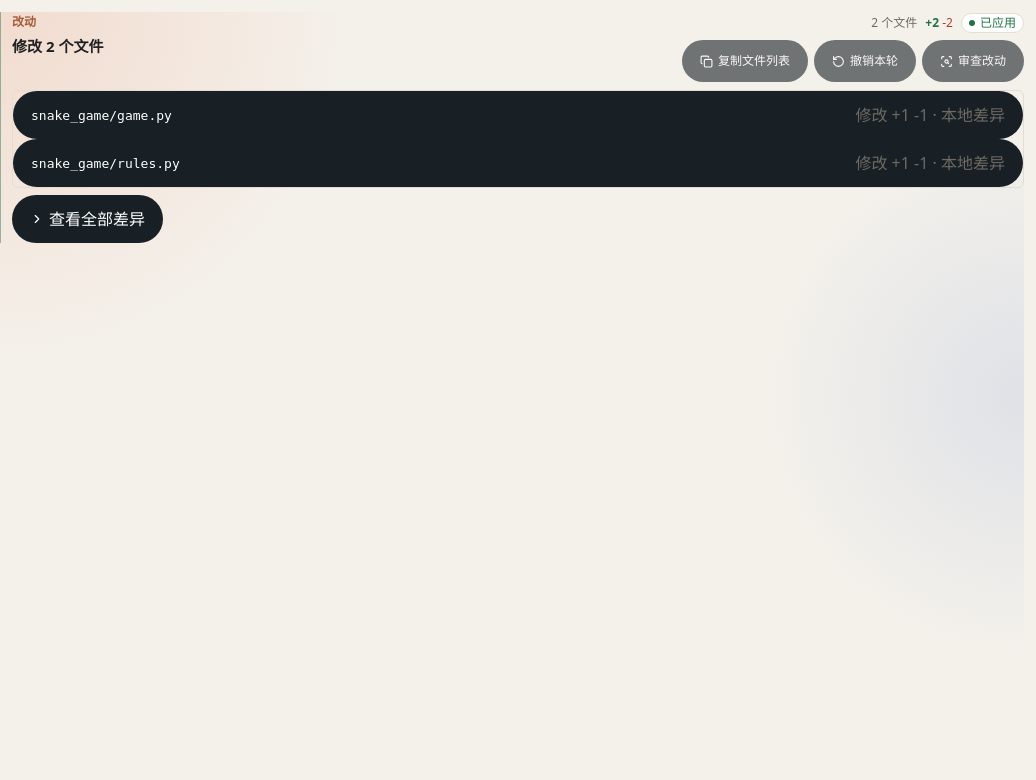
Test: CleanConversation › syncs diff tabs with the right file pane
The width and height of the screenshot is (1036, 780).
Click the button "查看全部差异". click: (88,219)
box: [12,195,163,243]
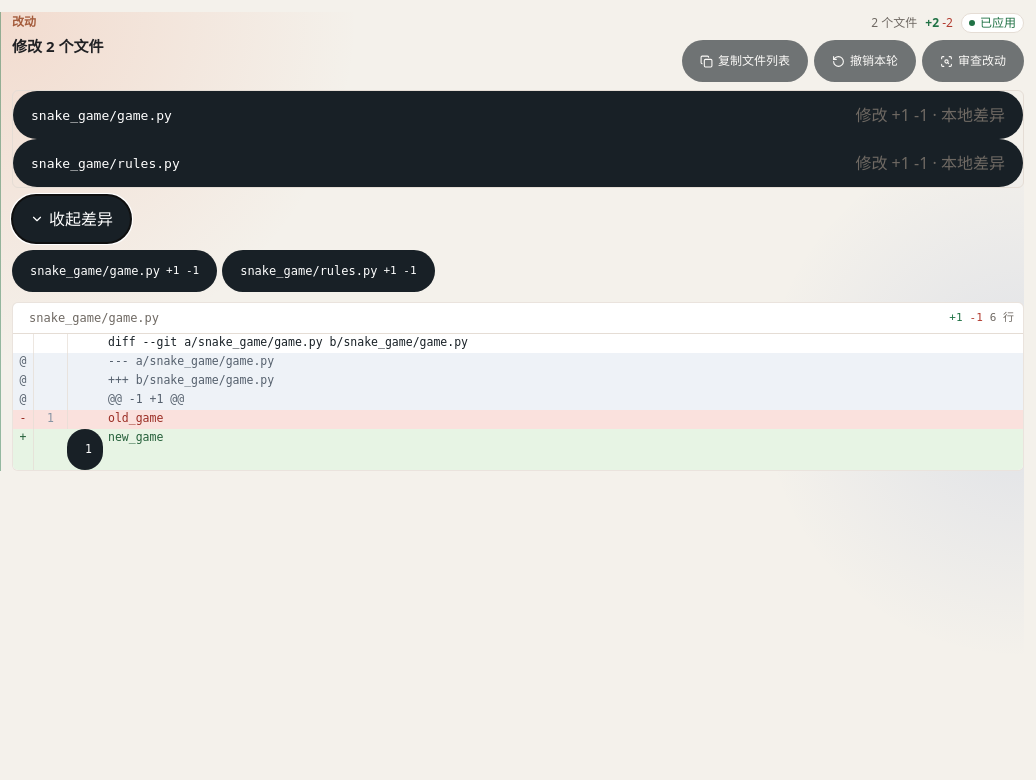
Click the button "snake_game/rules.py +1 -1". click: (328,271)
box: [222,250,435,292]
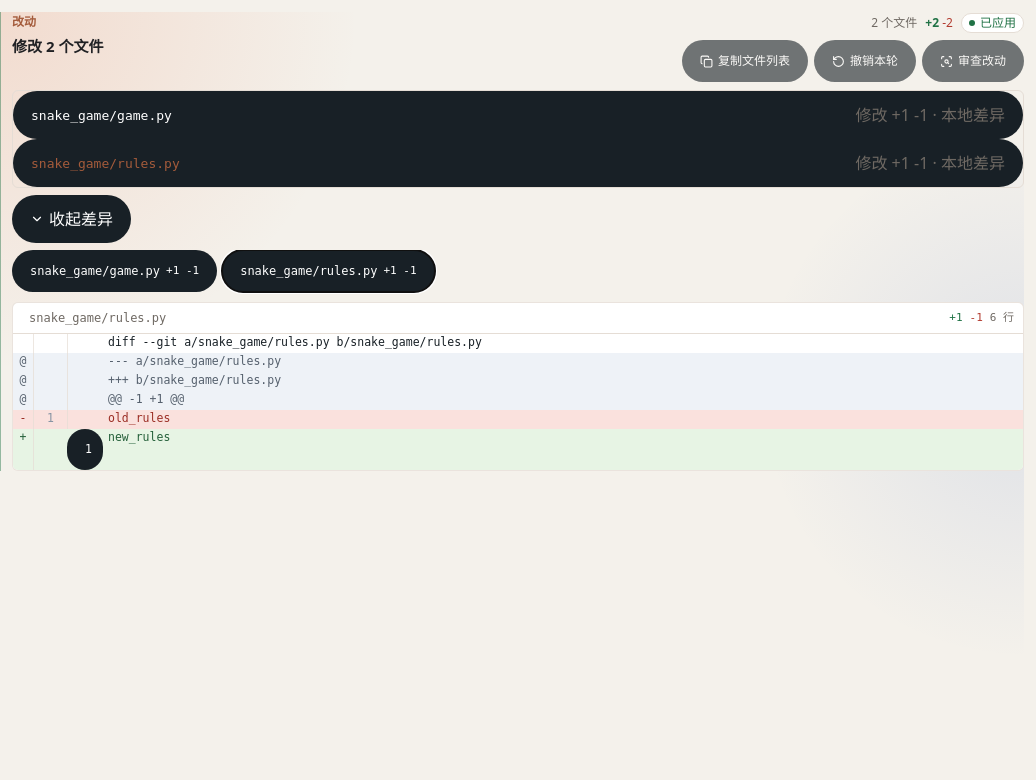
Result: the text "new_rules" is shown at [108,430,170,444]
Result: the text "new_game" is gone
